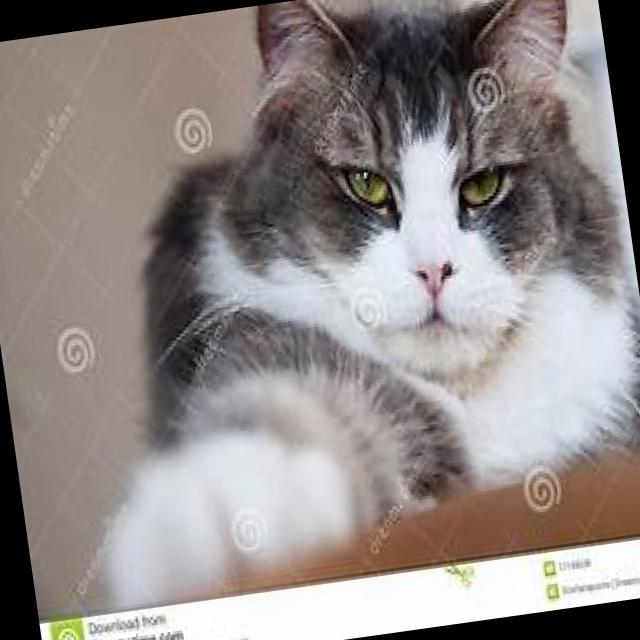animal: (18, 0, 640, 613)
